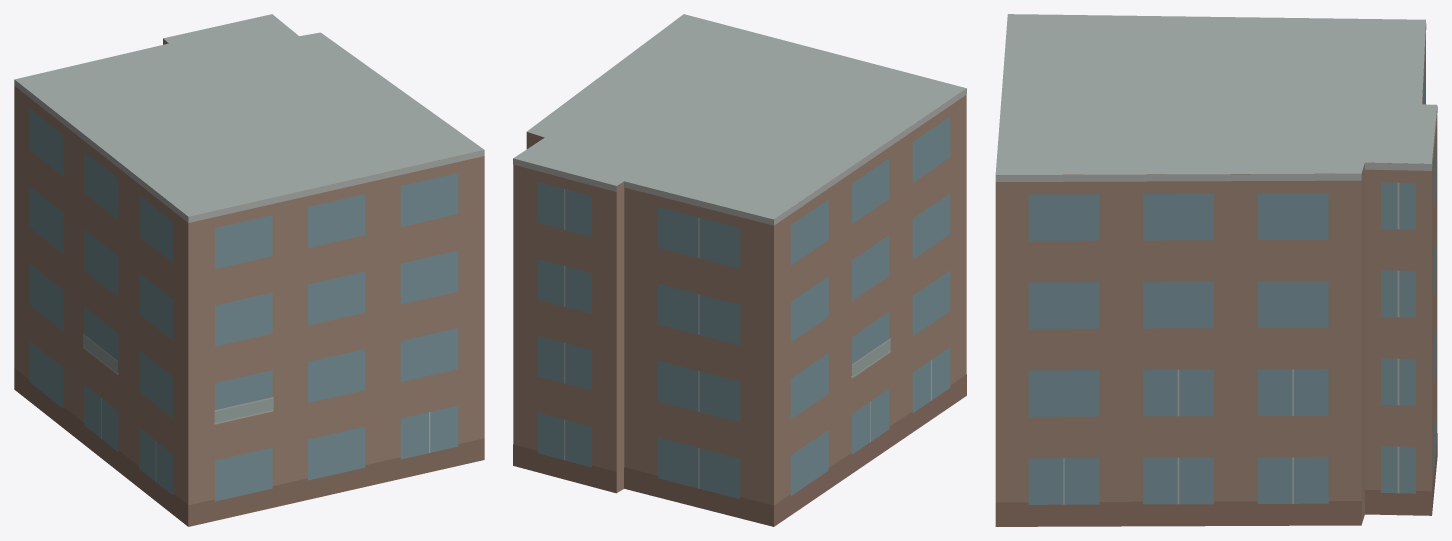
File: survey-upis-32813435.glb
The picture shows the model from 3 angles, left to right: view 1: azimuth 30°, elevation 25°; view 2: azimuth 150°, elevation 25°; view 3: azimuth 270°, elevation 25°; orthographic projection. The views are drawn at different scales.
Parts seen in each view (by area): view 1: survey-upis-32813435.tmp; view 2: survey-upis-32813435.tmp; view 3: survey-upis-32813435.tmp.
Boxes of the visible parts, bbox=[...] form: survey-upis-32813435.tmp: bbox=[14, 14, 484, 526]; survey-upis-32813435.tmp: bbox=[513, 14, 966, 526]; survey-upis-32813435.tmp: bbox=[995, 14, 1437, 526].
Size of the model in its own units: 11.99 by 12.2 by 13.9.
